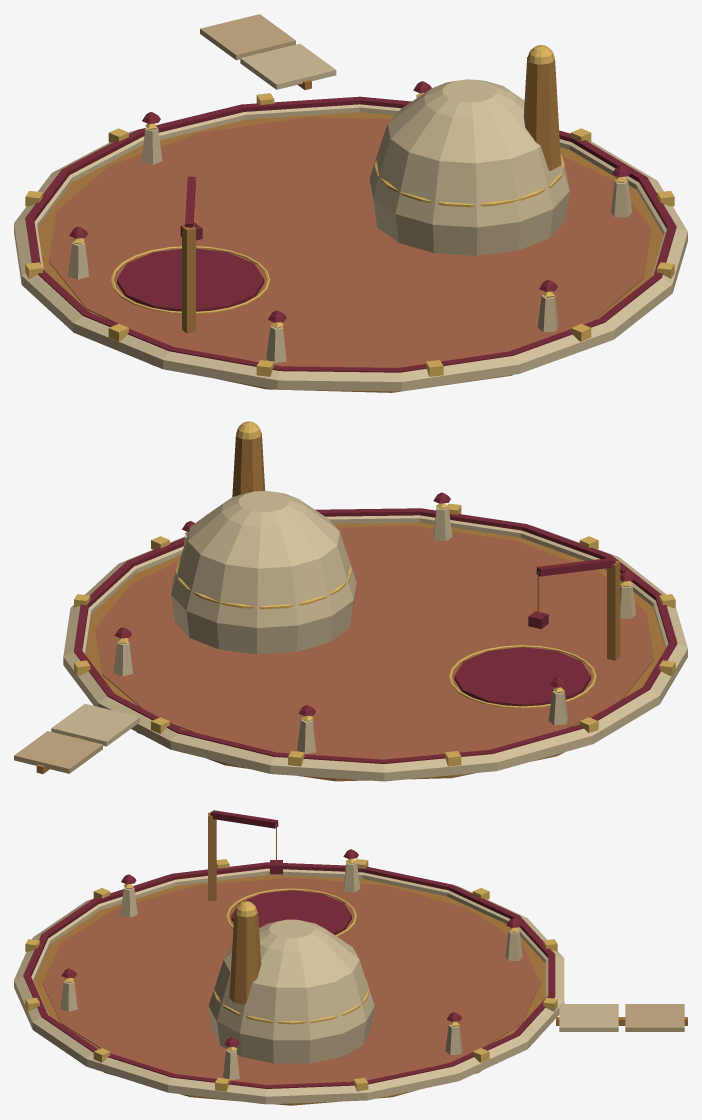
The model's file is kiln_dock.gltf.
The picture shows the model from 3 angles, top to bottom: view 1: azimuth 30°, elevation 25°; view 2: azimuth 150°, elevation 25°; view 3: azimuth 270°, elevation 25°; orthographic projection. The views are drawn at different scales.
Parts seen in each view (by area): view 1: deck_top, rim, kiln, berth, solar, deck, lamps, chimney, crane_post, berth_lights, kiln_band; view 2: deck_top, rim, kiln, berth, solar, deck, lamps, chimney, crane_post, berth_lights, crane_arm, kiln_band; view 3: deck_top, rim, kiln, deck, lamps, solar, berth, chimney, crane_post, crane_arm, kiln_band, berth_lights.
Part boxes in pixels (x1,y1,x2,y2): deck_top: (48,117,651,367); rim: (14,93,687,391); kiln: (369,79,569,255); berth: (117,248,264,311); solar: (200,14,336,89); deck: (37,112,663,392); lamps: (68,81,631,363); chimney: (523,57,560,170); crane_post: (182,226,195,333); berth_lights: (110,246,270,313); kiln_band: (374,154,564,207); deck_top: (95,525,653,759); rim: (63,503,687,781); kiln: (171,490,356,654); berth: (454,647,590,706); solar: (14,703,140,773); deck: (85,522,665,781); lamps: (113,492,636,753); chimney: (232,432,265,496); crane_post: (607,561,620,660); berth_lights: (448,645,596,708); crane_arm: (536,557,615,576); kiln_band: (175,559,351,609); deck_top: (42,877,540,1084); rim: (14,859,564,1104); kiln: (208,919,374,1063); deck: (34,875,545,1105); lamps: (60,849,522,1080); solar: (556,1004,687,1031); berth: (231,890,351,934); chimney: (229,912,261,1004); crane_post: (208,812,216,900); crane_arm: (210,810,278,828); kiln_band: (213,981,369,1024); berth_lights: (226,888,356,936).
Bounding box in the file's own units: 29.29 × 9.2 × 35.71.
